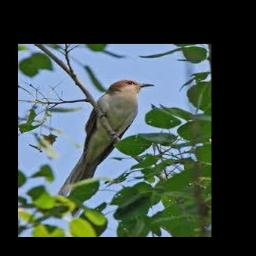Cuckoo: (58, 79, 155, 217)
